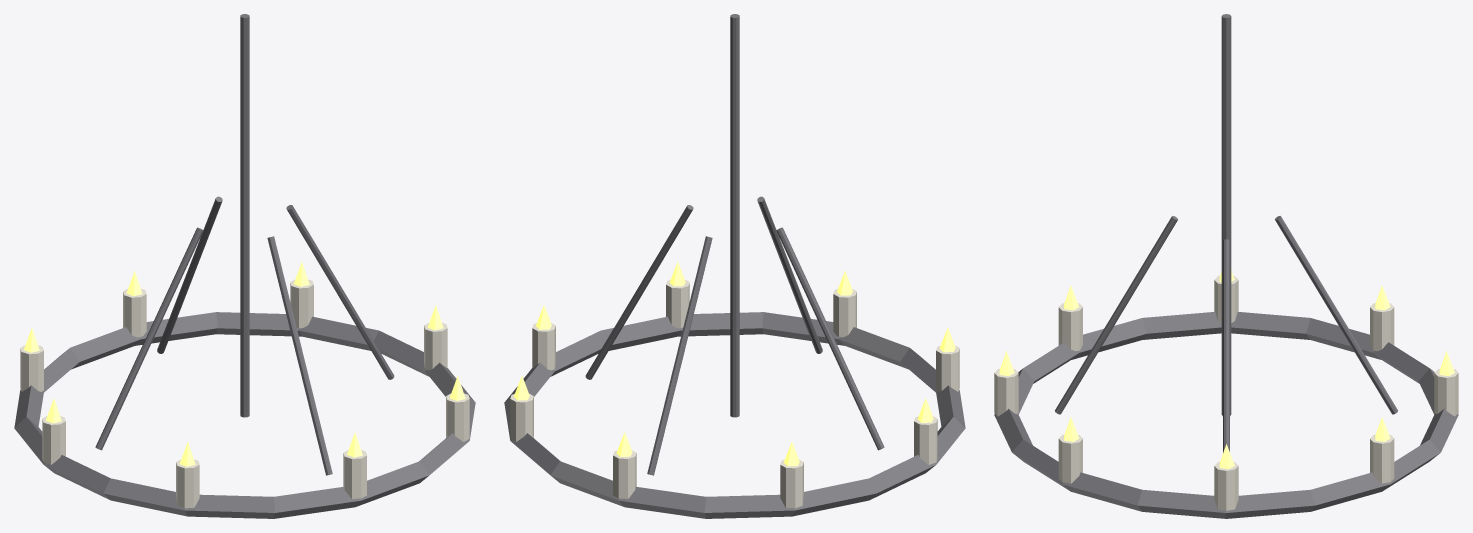
Rendered from chandelier.glb.
The picture shows the model from 3 angles, left to right: view 1: azimuth 30°, elevation 25°; view 2: azimuth 150°, elevation 25°; view 3: azimuth 270°, elevation 25°; orthographic projection.
Visible parts, largest first — view 1: chandelier; view 2: chandelier; view 3: chandelier.
Part boxes in pixels (bbox=[...]): chandelier: bbox=[14, 14, 475, 518]; chandelier: bbox=[504, 14, 965, 518]; chandelier: bbox=[994, 14, 1458, 518].
Size of the model in its own units: 1.9 by 1.85 by 1.9.
